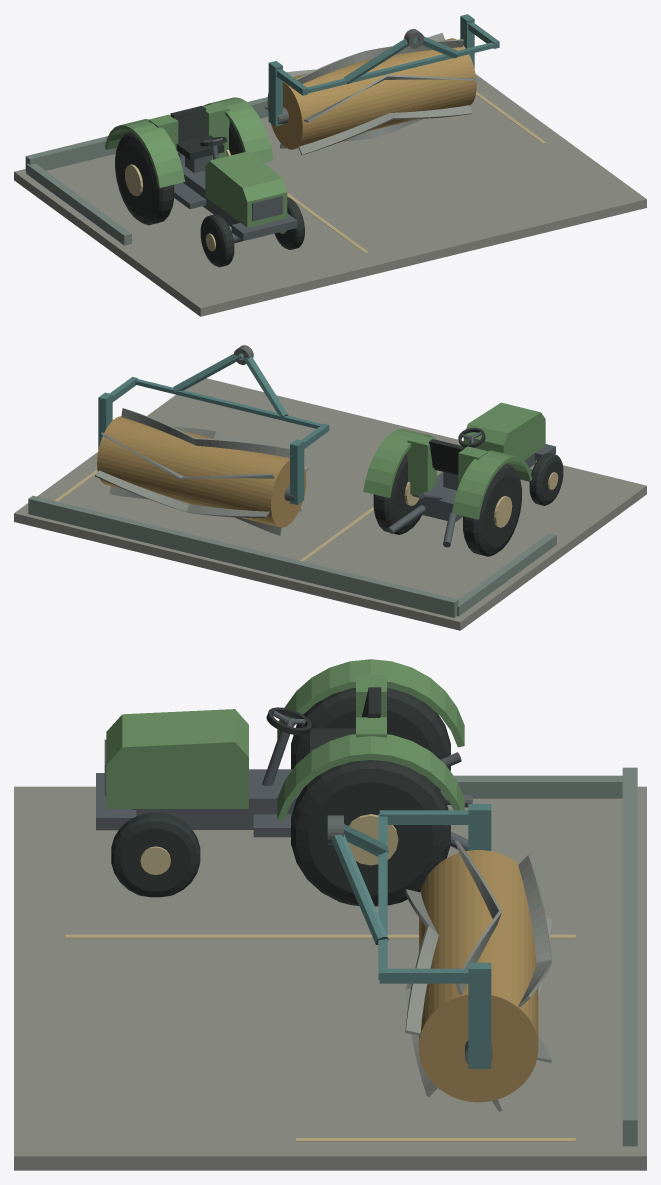
The picture shows the model from 3 angles, top to bottom: view 1: azimuth 30°, elevation 25°; view 2: azimuth 150°, elevation 25°; view 3: azimuth 270°, elevation 25°; orthographic projection. The views are drawn at different scales.
Parts seen in each view (by area): view 1: WholeOpenPreparationHardstand, Crimper__WholeBroadClosedCrimperDrum, Tractor__WholeLowSlopingEngineBonnet, Tractor__RearWholeRoundedTyre0, Tractor__WholeArchedRearMudguard0, WholeLowRearBoundary, WholeLeftEdgeCurb, Tractor__WholeArchedRearMudguard1, Crimper__WholeContinuousChevronCrimpRib5, Tractor__FrontWholeRoundedTyre0, Crimper__WholeRaisedFrontYokeCrossbeam, Crimper__WholeContinuousChevronCrimpRib3 (+15 smaller); view 2: WholeOpenPreparationHardstand, Crimper__WholeBroadClosedCrimperDrum, WholeLowRearBoundary, Tractor__WholeLowSlopingEngineBonnet, Tractor__RearWholeRoundedTyre0, Tractor__WholeArchedRearMudguard0, Tractor__WholeArchedRearMudguard1, WholeLeftEdgeCurb, Tractor__RearWholeRoundedTyre1, Crimper__WholeContinuousChevronCrimpRib3, Crimper__WholeContinuousChevronCrimpRib1, Tractor__WholeMudguardInnerStay1 (+13 smaller); view 3: WholeOpenPreparationHardstand, Crimper__WholeBroadClosedCrimperDrum, Tractor__RearWholeRoundedTyre1, Tractor__WholeLowSlopingEngineBonnet, WholeLowRearBoundary, Tractor__FrontWholeRoundedTyre1, Tractor__WholeArchedRearMudguard1, Tractor__RearWholeRoundedTyre0, Tractor__WholeArchedRearMudguard0, WholeLeftEdgeCurb, Tractor__WholeLowChassisAndRearDifferential, Crimper__WholeRaisedYokeBearingCheek1 (+14 smaller).
Boxes of the visible parts, x1,y1,x2,y2 form: WholeOpenPreparationHardstand: [14, 74, 646, 316]; Crimper__WholeBroadClosedCrimperDrum: [267, 38, 476, 149]; Tractor__WholeLowSlopingEngineBonnet: [205, 151, 287, 227]; Tractor__RearWholeRoundedTyre0: [115, 132, 174, 225]; Tractor__WholeArchedRearMudguard0: [105, 119, 184, 187]; WholeLowRearBoundary: [25, 97, 268, 171]; WholeLeftEdgeCurb: [26, 163, 131, 245]; Tractor__WholeArchedRearMudguard1: [203, 97, 273, 162]; Crimper__WholeContinuousChevronCrimpRib5: [298, 105, 472, 155]; Tractor__FrontWholeRoundedTyre0: [200, 214, 234, 267]; Crimper__WholeRaisedFrontYokeCrossbeam: [305, 42, 497, 94]; Crimper__WholeContinuousChevronCrimpRib3: [292, 39, 463, 88]; WholeOpenPreparationHardstand: [14, 378, 646, 630]; Crimper__WholeBroadClosedCrimperDrum: [97, 416, 306, 527]; WholeLowRearBoundary: [28, 495, 458, 617]; Tractor__WholeLowSlopingEngineBonnet: [463, 402, 545, 460]; Tractor__RearWholeRoundedTyre0: [463, 464, 521, 556]; Tractor__WholeArchedRearMudguard0: [452, 450, 532, 519]; Tractor__WholeArchedRearMudguard1: [363, 429, 433, 497]; WholeLeftEdgeCurb: [457, 533, 556, 616]; Tractor__RearWholeRoundedTyre1: [373, 452, 421, 534]; Crimper__WholeContinuousChevronCrimpRib3: [121, 408, 289, 457]; Crimper__WholeContinuousChevronCrimpRib1: [95, 470, 269, 517]; Tractor__WholeMudguardInnerStay1: [407, 434, 436, 495]; WholeOpenPreparationHardstand: [14, 786, 646, 1170]; Crimper__WholeBroadClosedCrimperDrum: [419, 850, 538, 1102]; Tractor__RearWholeRoundedTyre1: [291, 760, 450, 906]; Tractor__WholeLowSlopingEngineBonnet: [106, 709, 248, 808]; WholeLowRearBoundary: [622, 767, 637, 1146]; Tractor__FrontWholeRoundedTyre1: [111, 812, 200, 897]; Tractor__WholeArchedRearMudguard1: [277, 734, 464, 820]; Tractor__RearWholeRoundedTyre0: [291, 688, 450, 790]; Tractor__WholeArchedRearMudguard0: [277, 659, 464, 747]; WholeLeftEdgeCurb: [454, 775, 622, 798]; Tractor__WholeLowChassisAndRearDifferential: [131, 769, 303, 829]; Crimper__WholeRaisedYokeBearingCheek1: [468, 962, 491, 1068].
Bounding box in the file's own units: 7.6 × 2.3 × 5.5.
